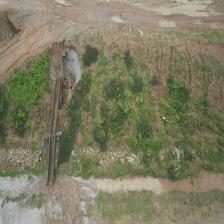rock_toe: (0, 148, 42, 173)
slope_drain: (47, 77, 62, 185)
